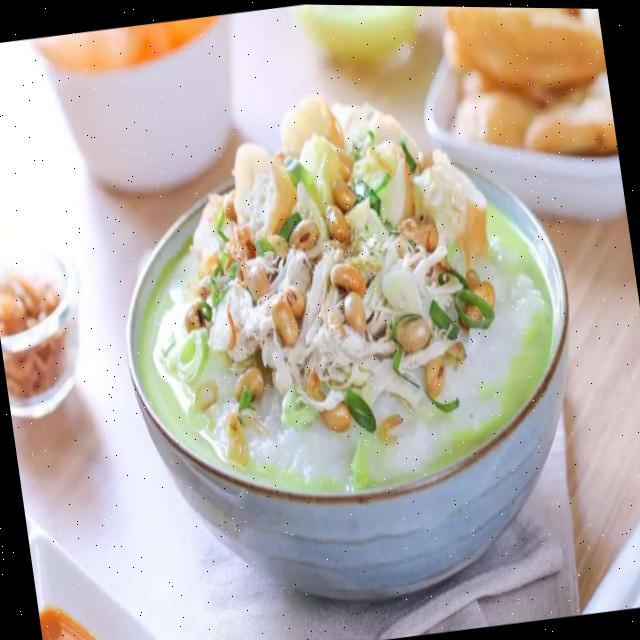bubur ayam: (107, 61, 573, 520)
mangkuk: (95, 74, 606, 634), (404, 6, 627, 242), (29, 12, 253, 210), (0, 237, 96, 423)
